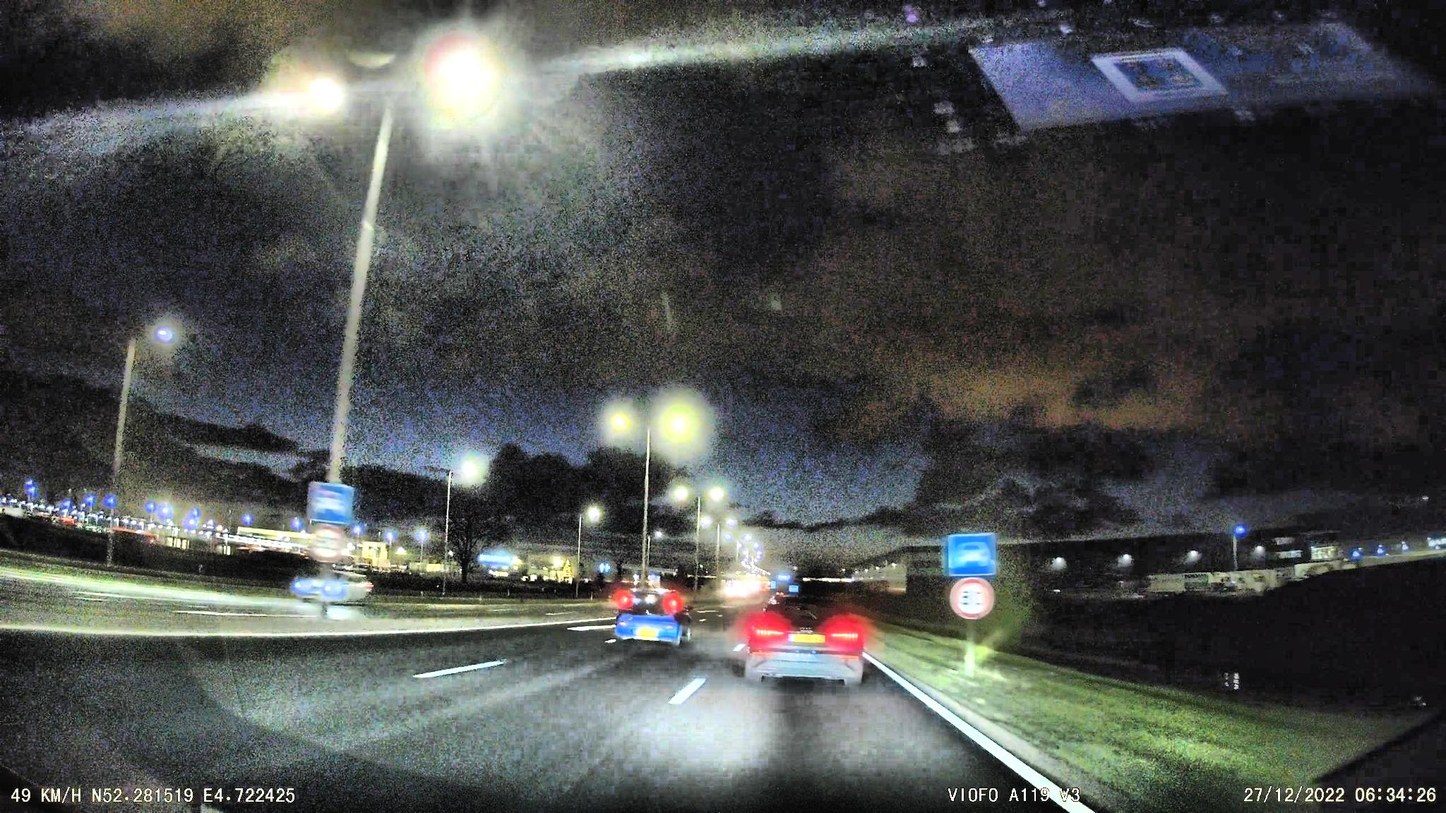Roads: (0, 620, 1225, 813)
